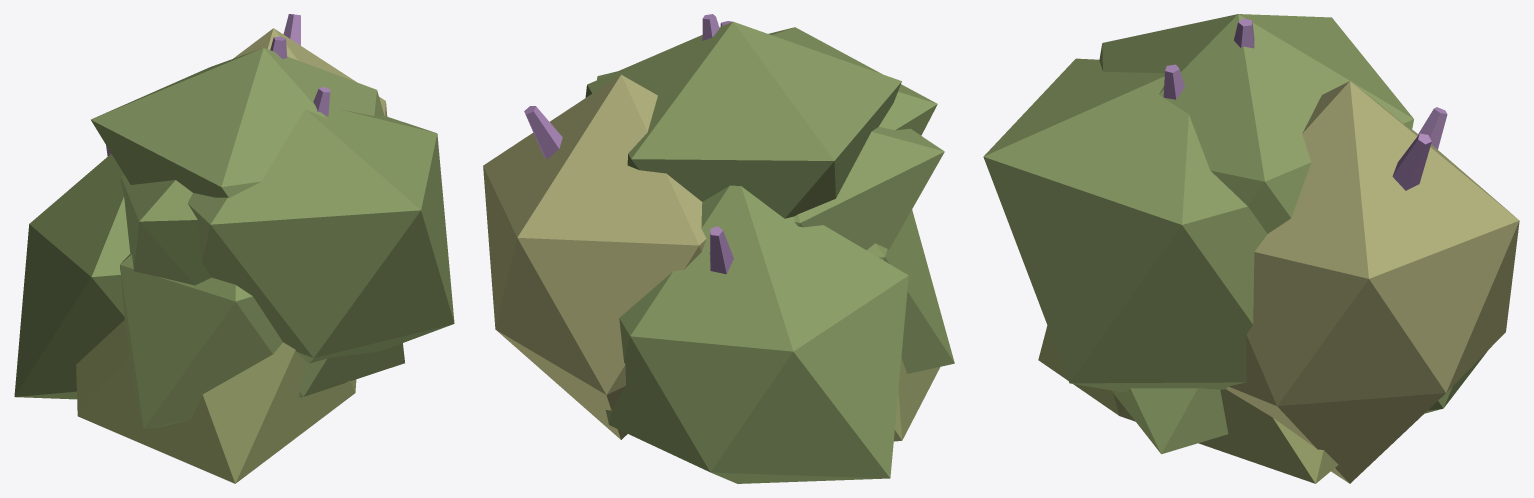
File: Buddleia.glb
3 renders of one model, left to right at view 1: azimuth 30°, elevation 25°; view 2: azimuth 150°, elevation 25°; view 3: azimuth 270°, elevation 25°, orthographic. The views are drawn at different scales.
Visible parts, largest first — view 1: Leaves.001, Leaves.002, Leaves.005, Leaves, Leaves.003, Leaves.006, Leaves.004; view 2: Leaves, Leaves.004, Leaves.002, Leaves.006, Leaves.005, Leaves.001, Leaves.003, Member.105, Member.101; view 3: Leaves.004, Leaves.001, Leaves.002, Leaves.003, Leaves.005, Member.105, Member.101, Member.102.
Part boxes in pixels (left/top/right/bottom): Leaves.001: left=187, top=109, right=454, bottom=363; Leaves.002: left=91, top=48, right=384, bottom=197; Leaves.005: left=120, top=254, right=404, bottom=428; Leaves: left=14, top=153, right=130, bottom=399; Leaves.003: left=76, top=320, right=356, bottom=483; Leaves.006: left=120, top=174, right=211, bottom=285; Leaves.004: left=233, top=28, right=387, bottom=116; Leaves: left=605, top=185, right=908, bottom=483; Leaves.004: left=483, top=74, right=706, bottom=439; Leaves.002: left=585, top=21, right=901, bottom=218; Leaves.006: left=794, top=127, right=944, bottom=250; Leaves.005: left=866, top=209, right=954, bottom=373; Leaves.001: left=597, top=27, right=937, bottom=135; Leaves.003: left=893, top=358, right=940, bottom=441; Member.105: left=524, top=106, right=562, bottom=159; Member.101: left=709, top=226, right=733, bottom=274; Leaves.004: left=1226, top=81, right=1519, bottom=483; Leaves.001: left=983, top=58, right=1267, bottom=392; Leaves.002: left=1099, top=14, right=1413, bottom=233; Leaves.003: left=1038, top=325, right=1338, bottom=483; Leaves.005: left=1112, top=388, right=1228, bottom=454; Member.105: left=1392, top=133, right=1431, bottom=190; Member.101: left=1418, top=107, right=1447, bottom=149; Member.102: left=1163, top=64, right=1184, bottom=99.
Size of the model in its own units: 1.58 by 1.54 by 1.65.
